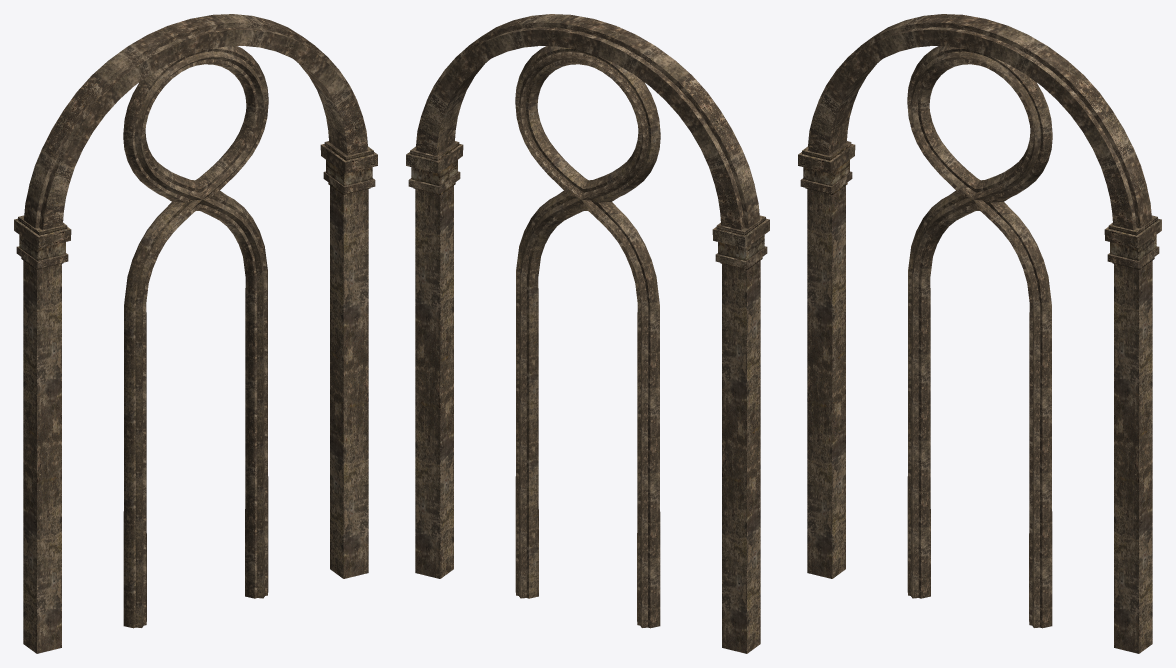
The model's file is materials_5_decoration_2.fbx.
3 views of the same model, side by side, from view 1: azimuth 30°, elevation 25°; view 2: azimuth 150°, elevation 25°; view 3: azimuth 330°, elevation 25° (orthographic).
Visible parts, largest first — view 1: materials_5_decoration_2; view 2: materials_5_decoration_2; view 3: materials_5_decoration_2.
Part boxes in pixels (x1=…): materials_5_decoration_2: x1=14, y1=14, x2=377, y2=653; materials_5_decoration_2: x1=406, y1=14, x2=769, y2=653; materials_5_decoration_2: x1=798, y1=14, x2=1161, y2=653.
Bounding box in the file's own units: 183 × 301 × 22.82.
